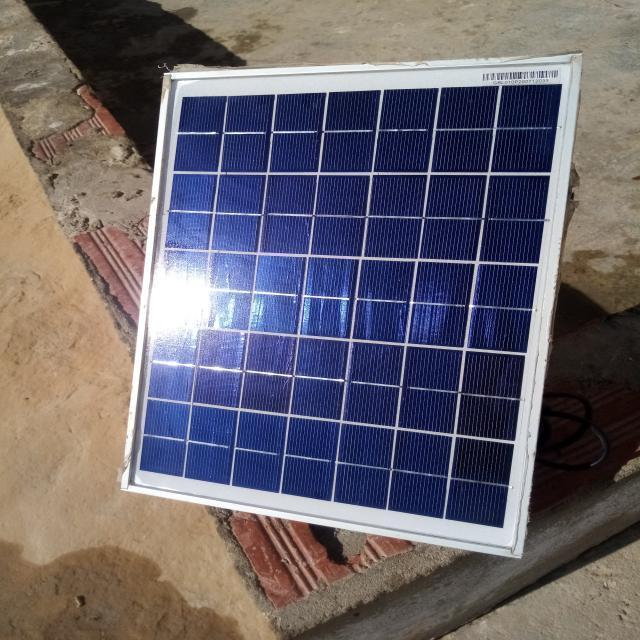Normal Solar Panel: (123, 55, 581, 557)
